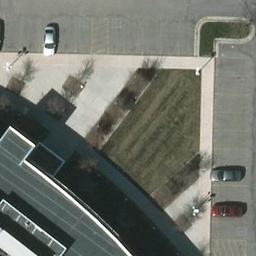car: (212, 166, 246, 183), (213, 204, 245, 220), (42, 25, 57, 57)
